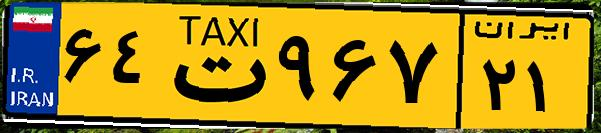1: (525, 38, 570, 115)
2: (475, 38, 525, 113)
4: (110, 28, 158, 98)
6: (330, 28, 385, 110), (57, 26, 110, 100)
7: (385, 28, 445, 110)
9: (270, 28, 330, 110)
ت: (158, 12, 270, 120)
